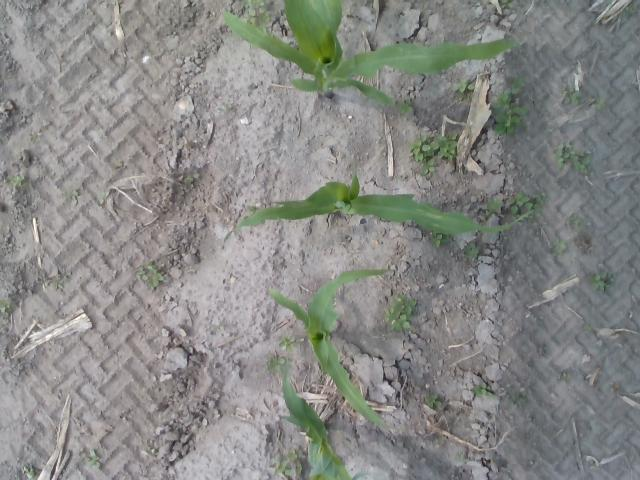Maize: (219, 0, 514, 110), (266, 268, 394, 430), (224, 172, 534, 236), (280, 366, 350, 480)
Weeds: (412, 136, 457, 163), (558, 141, 590, 173), (493, 104, 527, 134), (389, 294, 414, 329), (588, 270, 616, 292), (138, 264, 166, 286), (246, 0, 269, 24), (508, 192, 532, 213), (492, 90, 512, 109), (486, 197, 503, 217), (451, 82, 476, 95), (267, 356, 285, 371), (277, 460, 292, 478), (0, 304, 11, 326), (552, 237, 566, 254), (565, 90, 583, 103), (278, 335, 296, 348), (86, 454, 102, 468), (425, 394, 441, 408), (66, 190, 79, 206), (475, 382, 491, 395), (512, 77, 524, 94), (422, 159, 434, 175), (466, 243, 478, 258), (568, 217, 582, 229), (8, 174, 24, 184), (434, 235, 444, 248), (285, 450, 298, 460), (143, 448, 158, 456), (535, 194, 543, 209), (42, 272, 50, 286), (24, 467, 34, 478), (508, 393, 517, 404), (538, 344, 546, 356), (54, 280, 64, 289), (558, 372, 568, 380), (212, 324, 225, 330), (594, 101, 604, 107), (520, 394, 526, 402)
